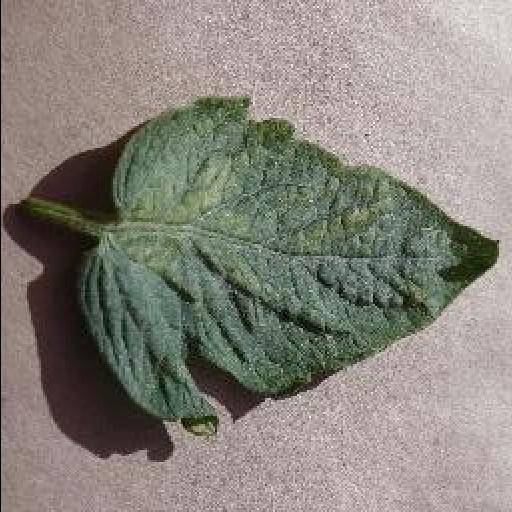disease_tomato: (74, 94, 500, 418)
